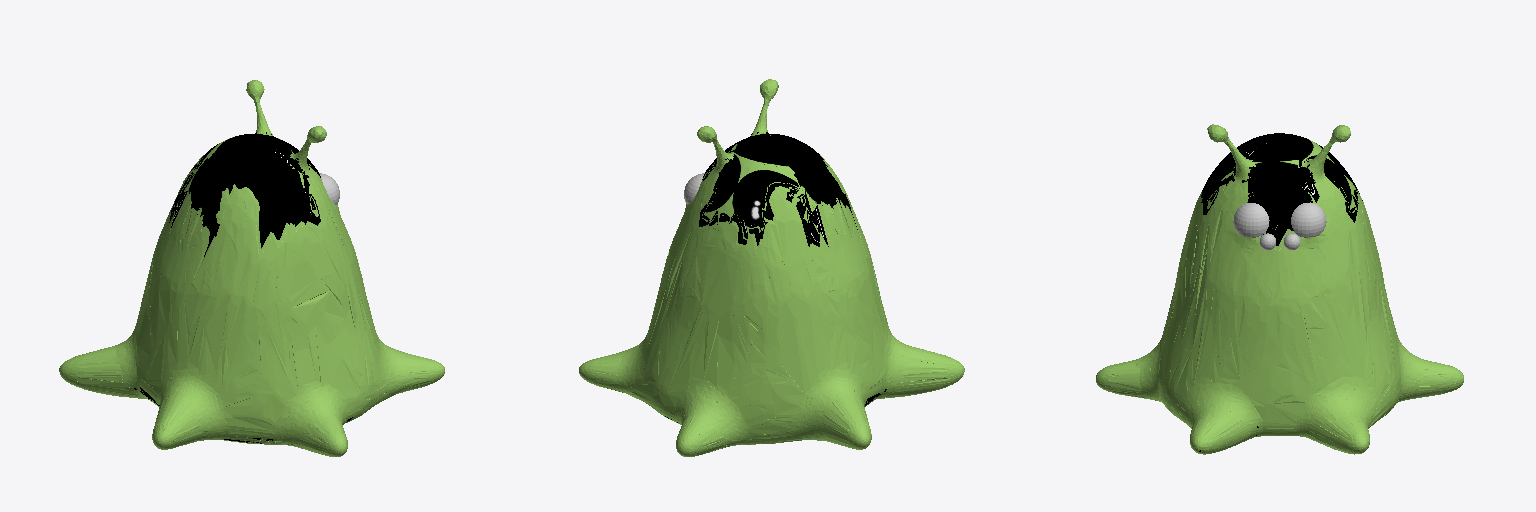
The picture shows the model from 3 angles: view 1: azimuth 30°, elevation 25°; view 2: azimuth 150°, elevation 25°; view 3: azimuth 270°, elevation 25°; orthographic projection.
Visible parts, largest first — view 1: Quad_Sphere; view 2: Quad_Sphere; view 3: Quad_Sphere, Sphere.
Boxes of the visible parts, x1,y1,x2,y2 form: Quad_Sphere: [59, 80, 444, 456]; Quad_Sphere: [579, 79, 964, 456]; Quad_Sphere: [1096, 124, 1463, 454]; Sphere: [1233, 203, 1326, 237].
Bounding box in the file's own units: 5.74 × 5.36 × 6.19.
2 materials, 1 textured.